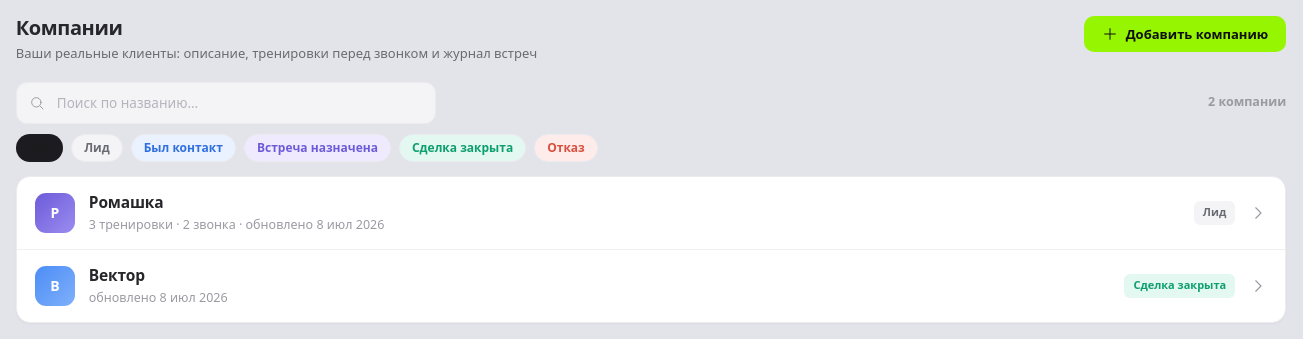
CompaniesPage › clears the status filter when the active chip is clicked again
Click the button "Сделка закрыта" at [463, 148], box [399,134,526,162]
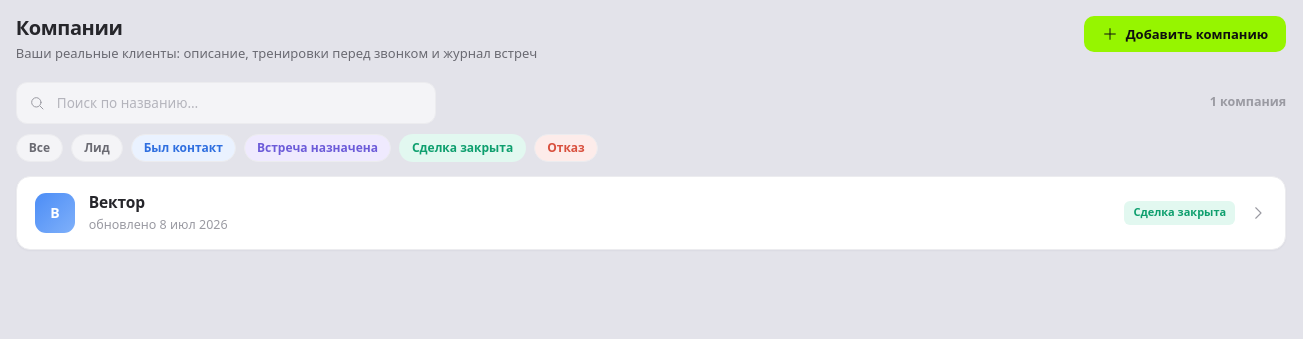
Result: the link "Ромашка" is gone
Click the button "Сделка закрыта" at [463, 148], box [399,134,526,162]
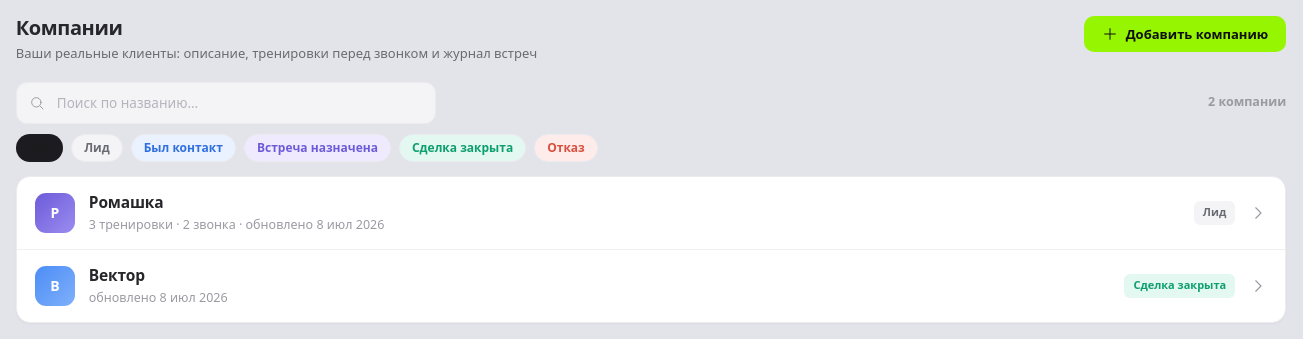
Expected: the text "Вектор" is shown, [89,264,145,286]
Result: the text "Ромашка" is shown at [89,190,164,212]
